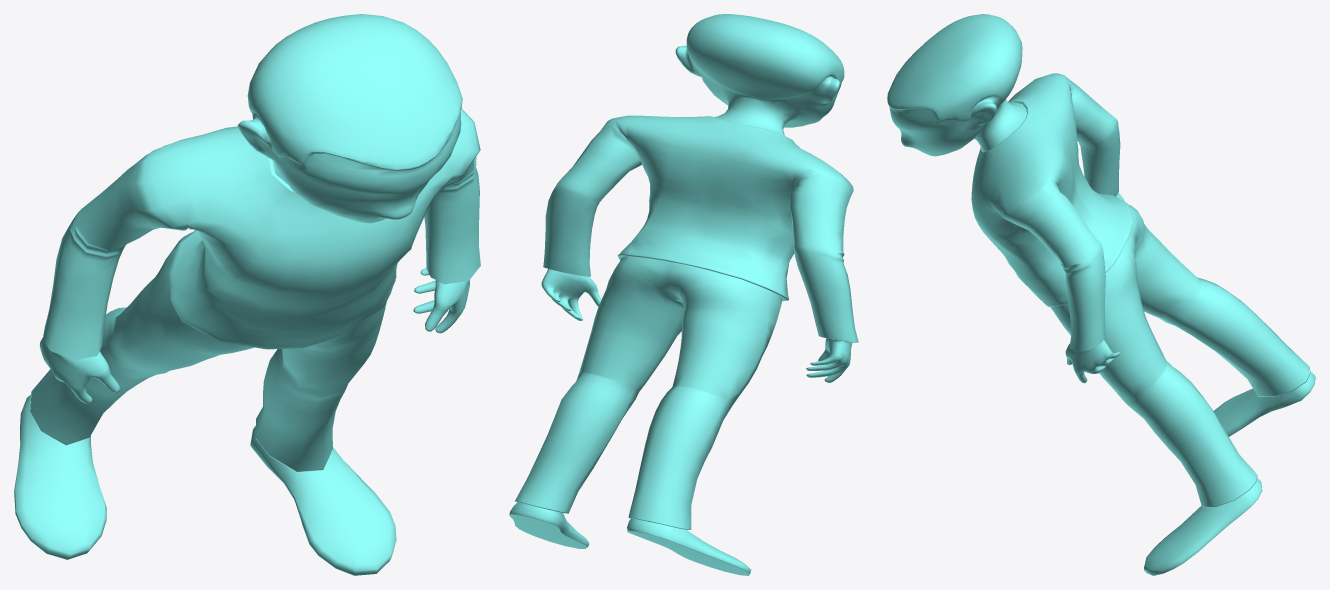
The model's file is personajes 1 solo.glb.
3 views of the same model, side by side, from view 1: azimuth 30°, elevation 25°; view 2: azimuth 150°, elevation 25°; view 3: azimuth 270°, elevation 25° (orthographic). The views are drawn at different scales.
Parts seen in each view (by area): view 1: mesh_id26; view 2: mesh_id26; view 3: mesh_id26.
Part boxes in pixels (box(x1,y1,x2,y2)): mesh_id26: box(14, 14, 480, 575); mesh_id26: box(509, 14, 858, 575); mesh_id26: box(887, 14, 1315, 575).
Size of the model in its own units: 0.0672 by 0.0999 by 0.0786.
Materials: 1 (1 with a texture image).
